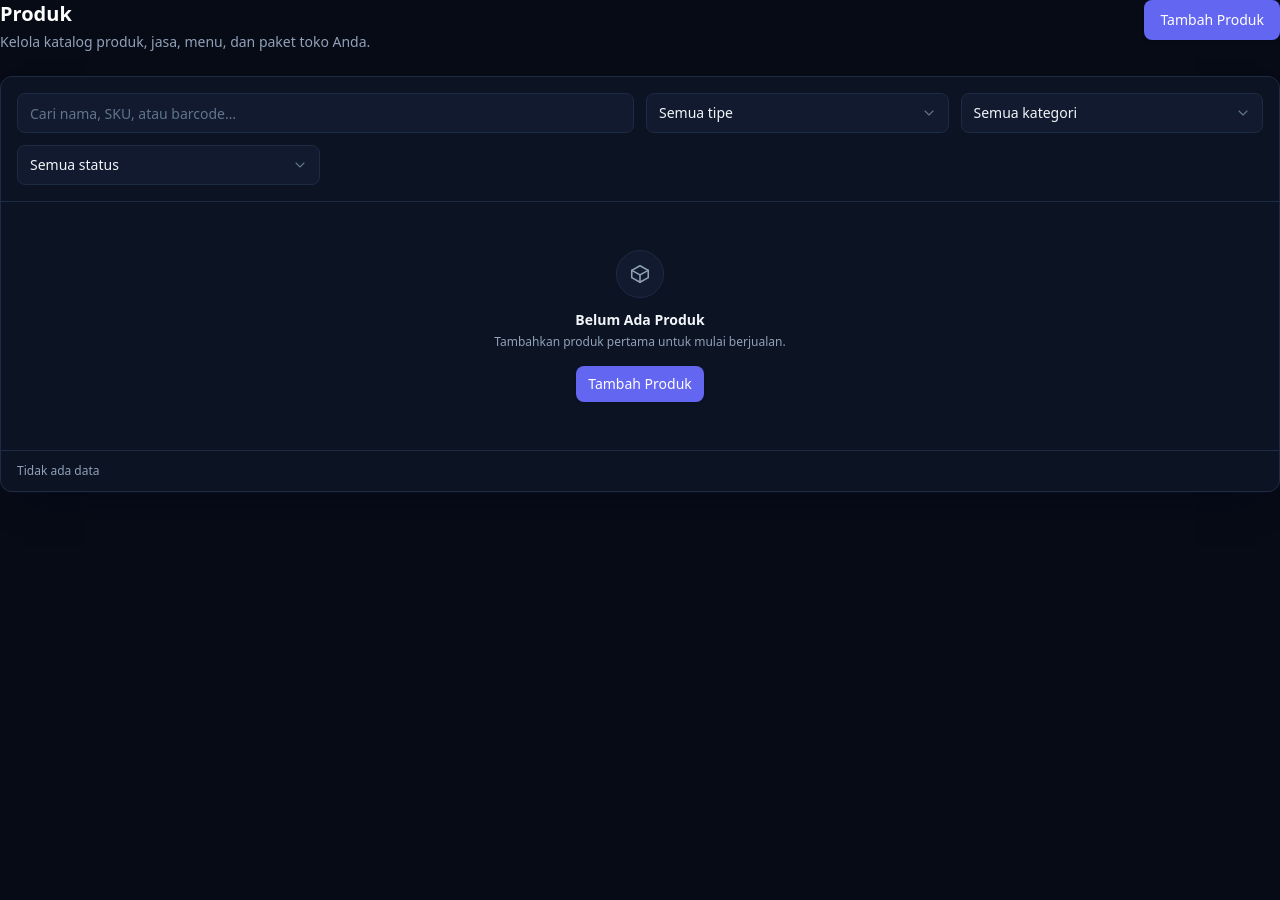
ProductsPage › shows 422 validation errors on the related field
This screenshot has width=1280, height=900.
Click the 1st button "Tambah Produk".
click(1212, 20)  # box 1144,0 -> 1279,40
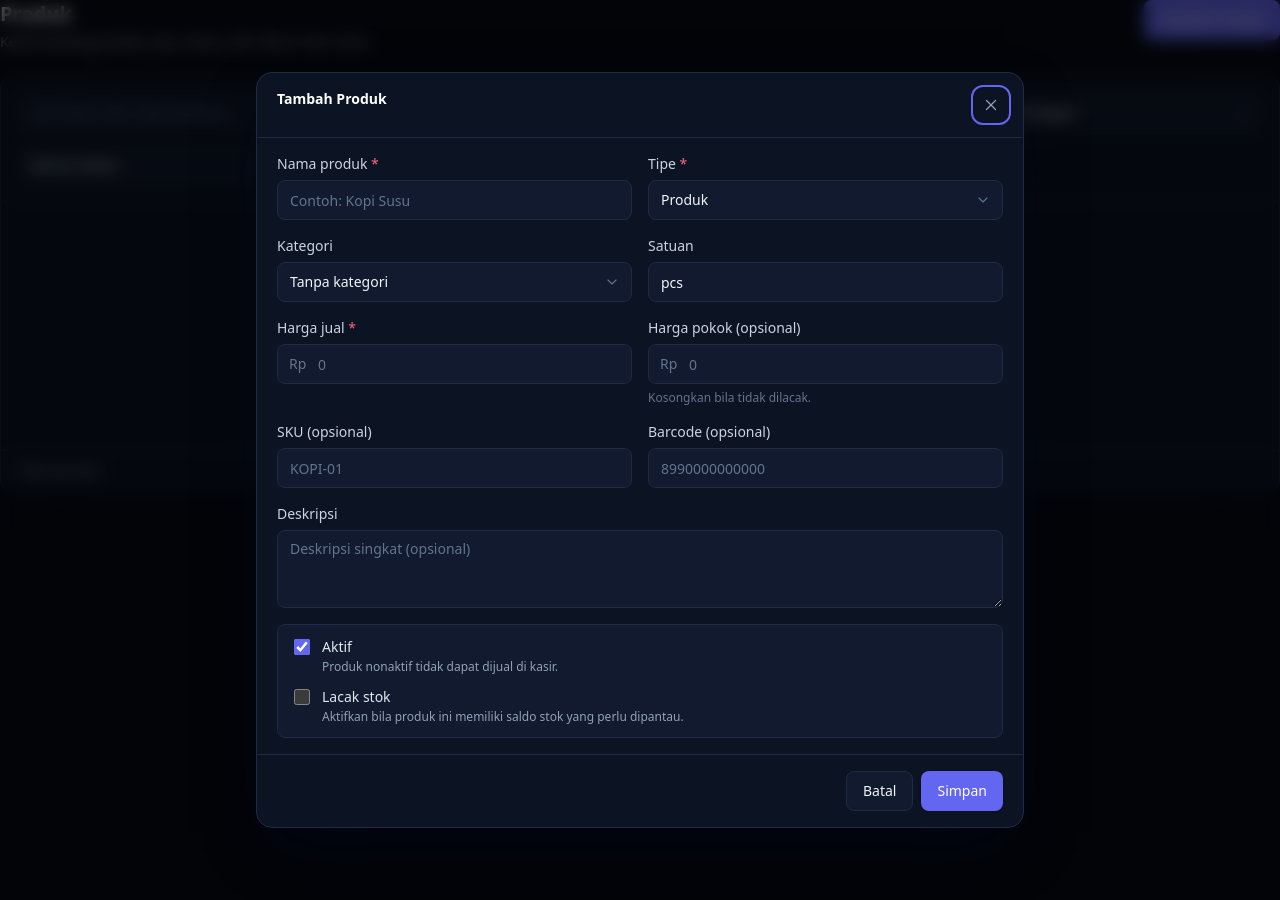
Type "X" into the field named "name".
click(454, 200); type("X")  # box 277,180 -> 632,220
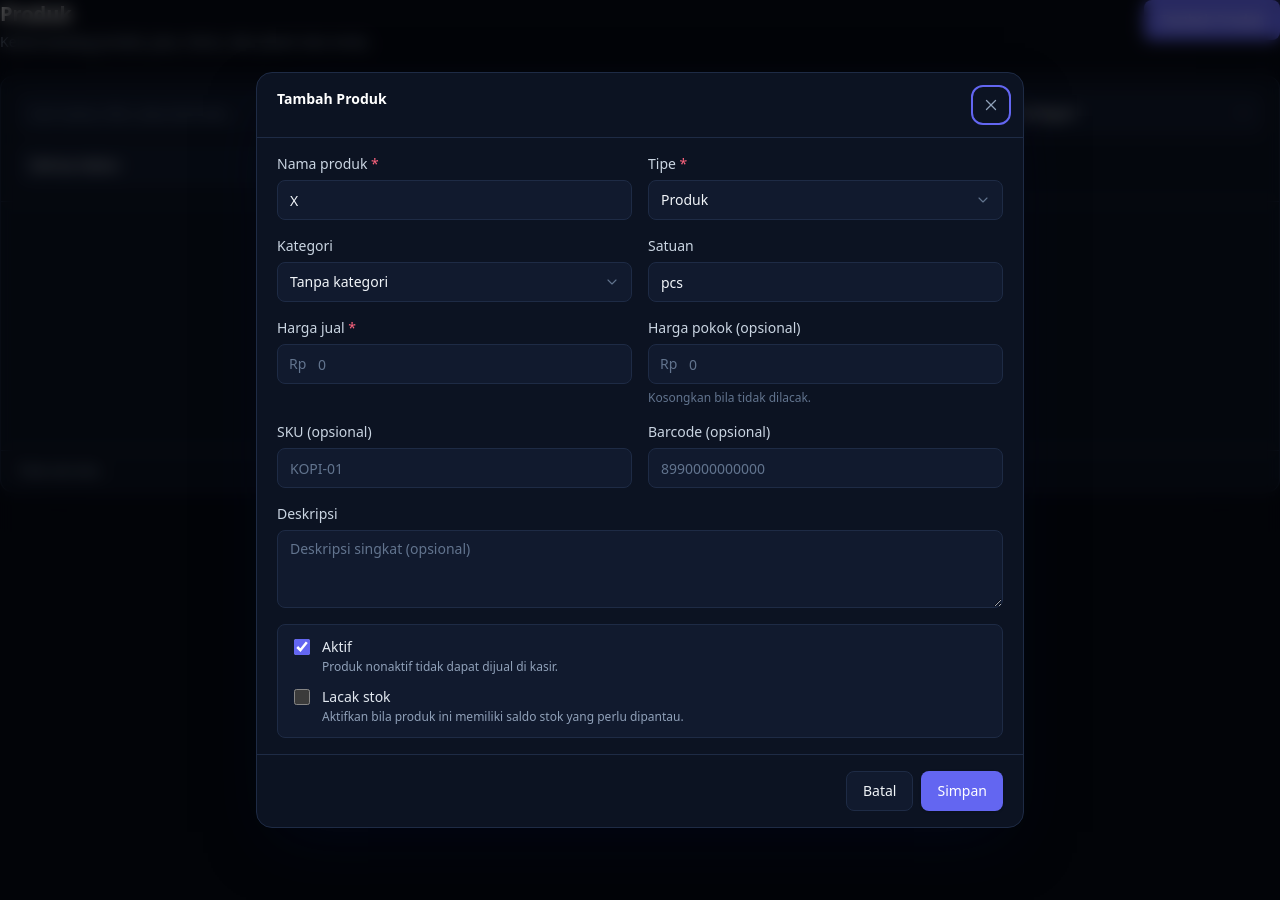
Type "1000" into the field named "selling_price".
click(454, 364); type("1000")  # box 277,344 -> 632,384
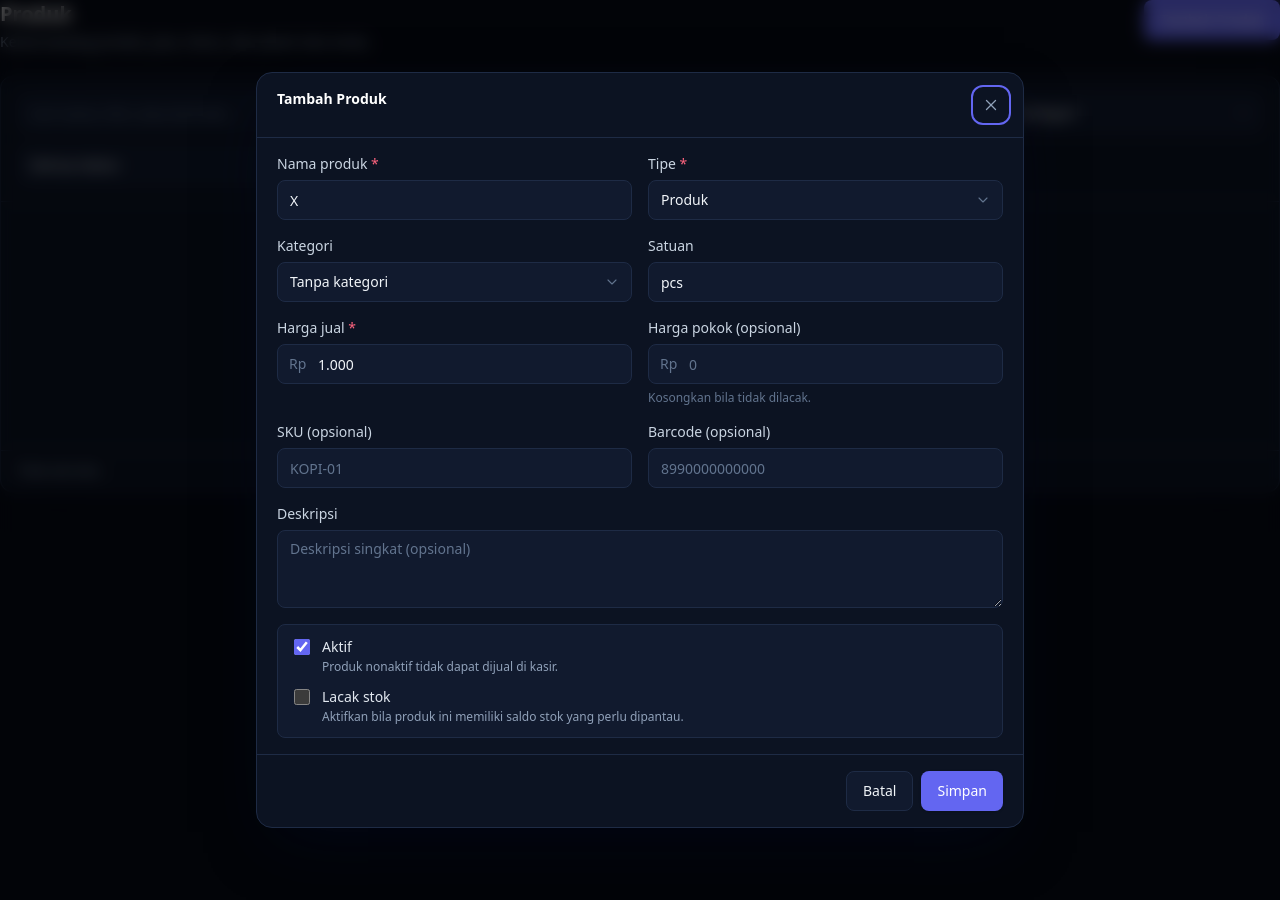
Submit the form, box 277,154 -> 1003,738
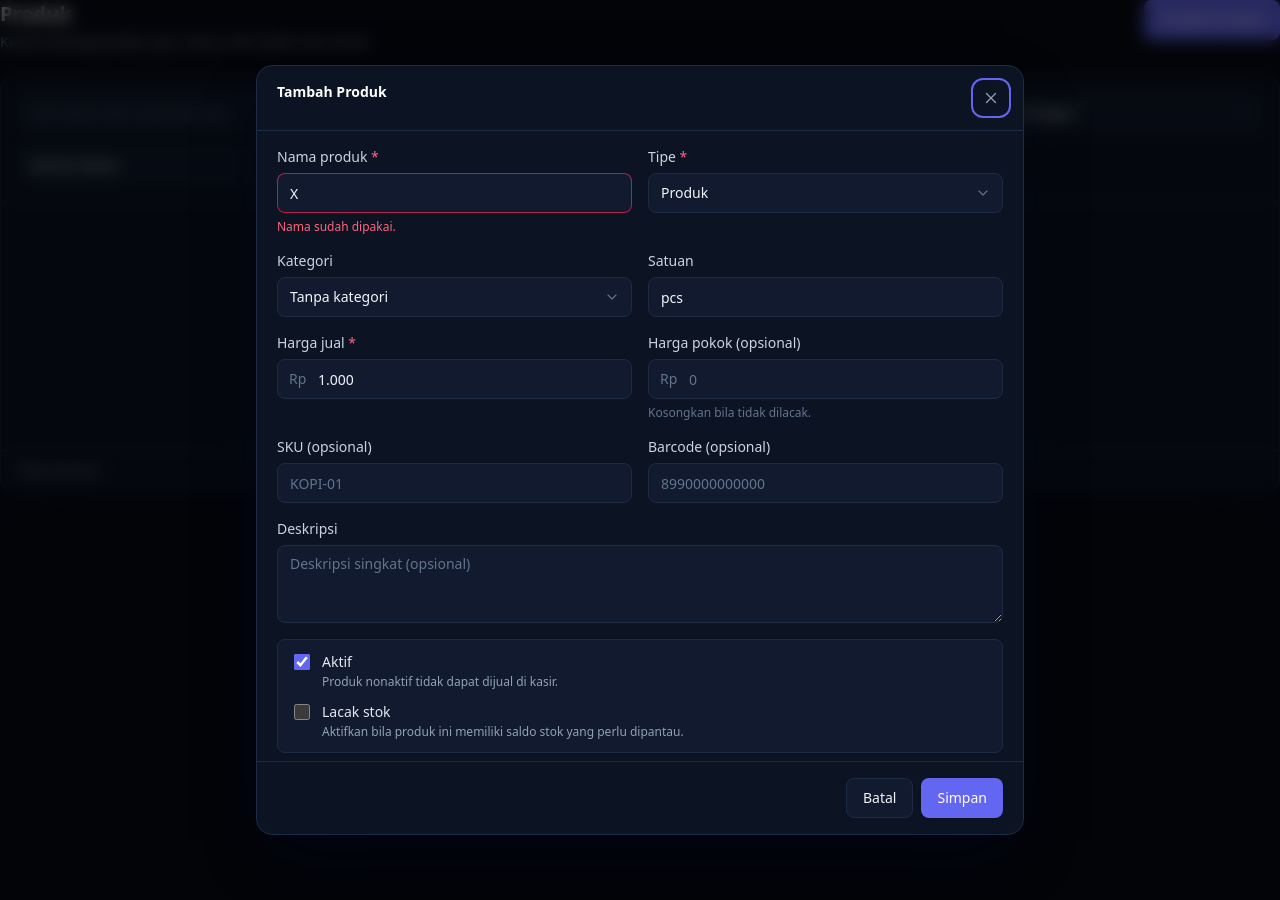
Expected: the text "Nama sudah dipakai." is shown, 277,218 -> 396,235
